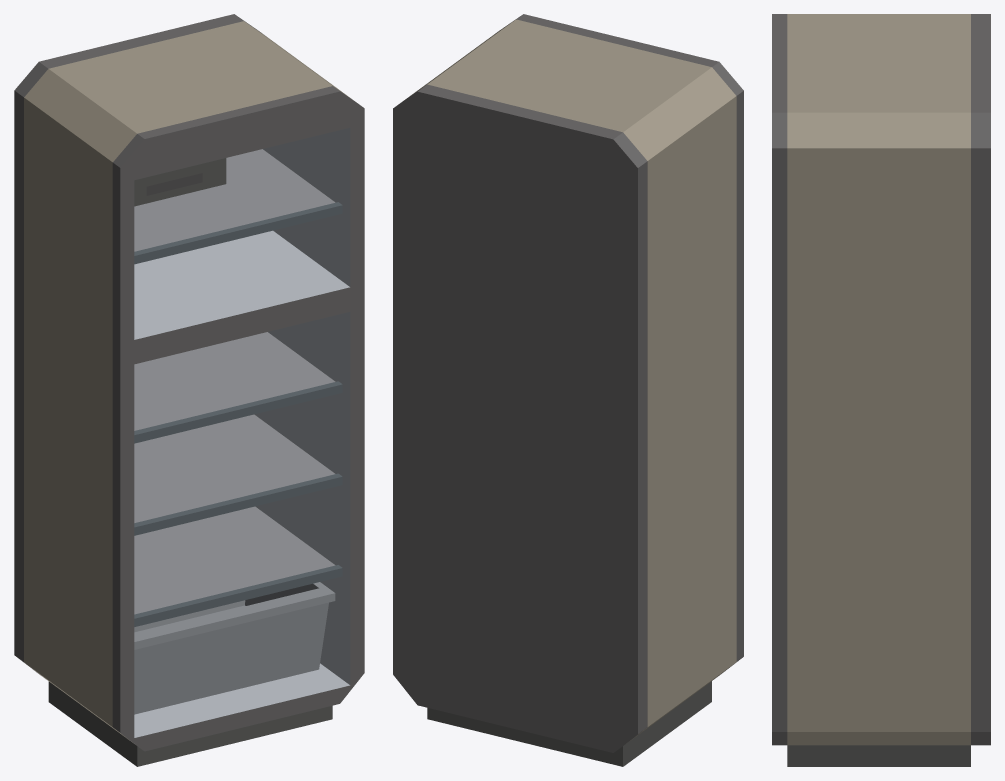
The model's file is SM_Prop_Fridge_01.fbx.
3 renders of one model, left to right at view 1: azimuth 30°, elevation 25°; view 2: azimuth 150°, elevation 25°; view 3: azimuth 270°, elevation 25°, orthographic. The views are drawn at different scales.
Visible parts, largest first — view 1: SM_Prop_Fridge_01; view 2: SM_Prop_Fridge_01; view 3: SM_Prop_Fridge_01.
Boxes of the visible parts, bbox=[...] form: SM_Prop_Fridge_01: bbox=[14, 14, 364, 766]; SM_Prop_Fridge_01: bbox=[393, 14, 743, 766]; SM_Prop_Fridge_01: bbox=[772, 14, 990, 766].
Size of the model in its own units: 93.4 by 231 by 70.05.
